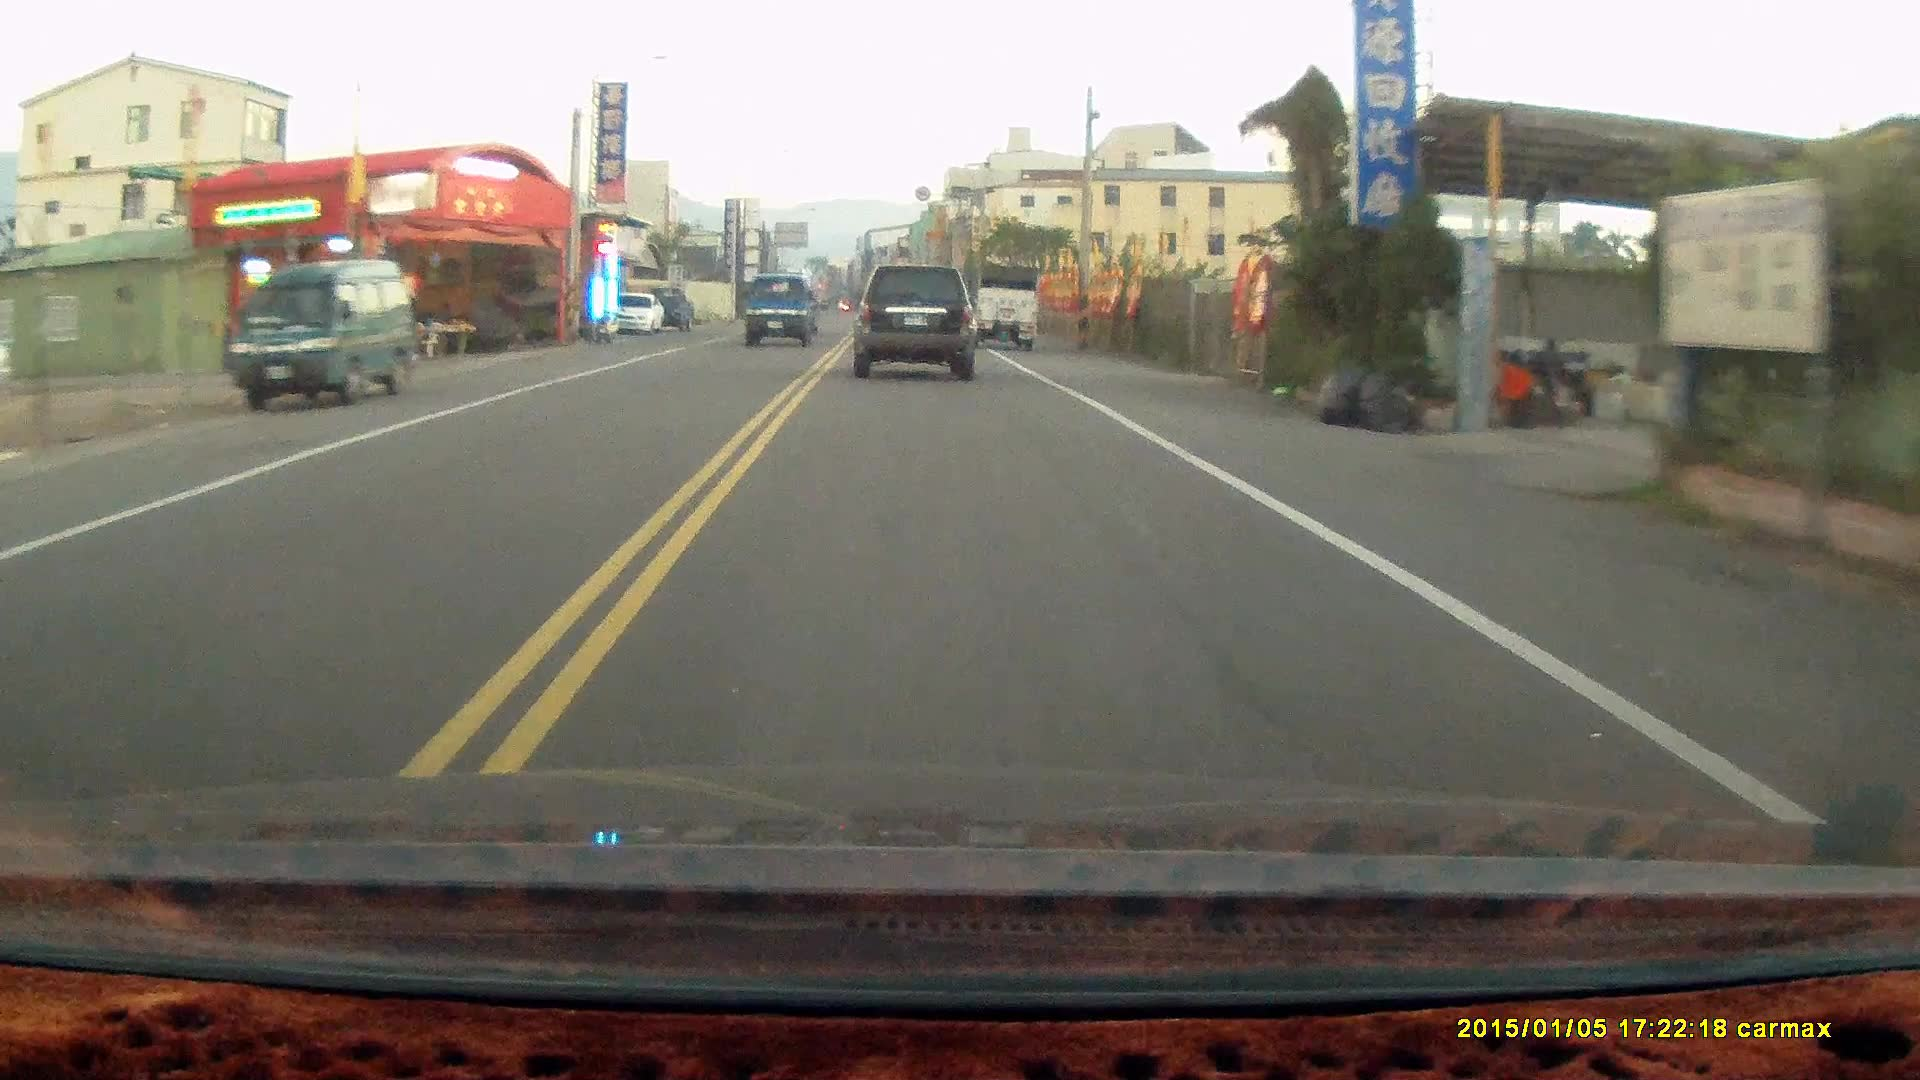vehicle: (231, 260, 419, 415), (855, 266, 978, 380), (948, 260, 1042, 352), (745, 280, 822, 357), (604, 291, 667, 338)
